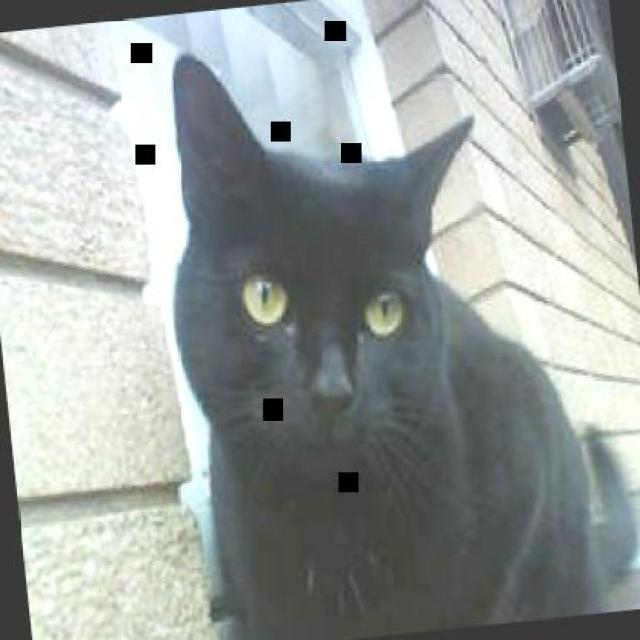cat: (144, 6, 638, 639)
